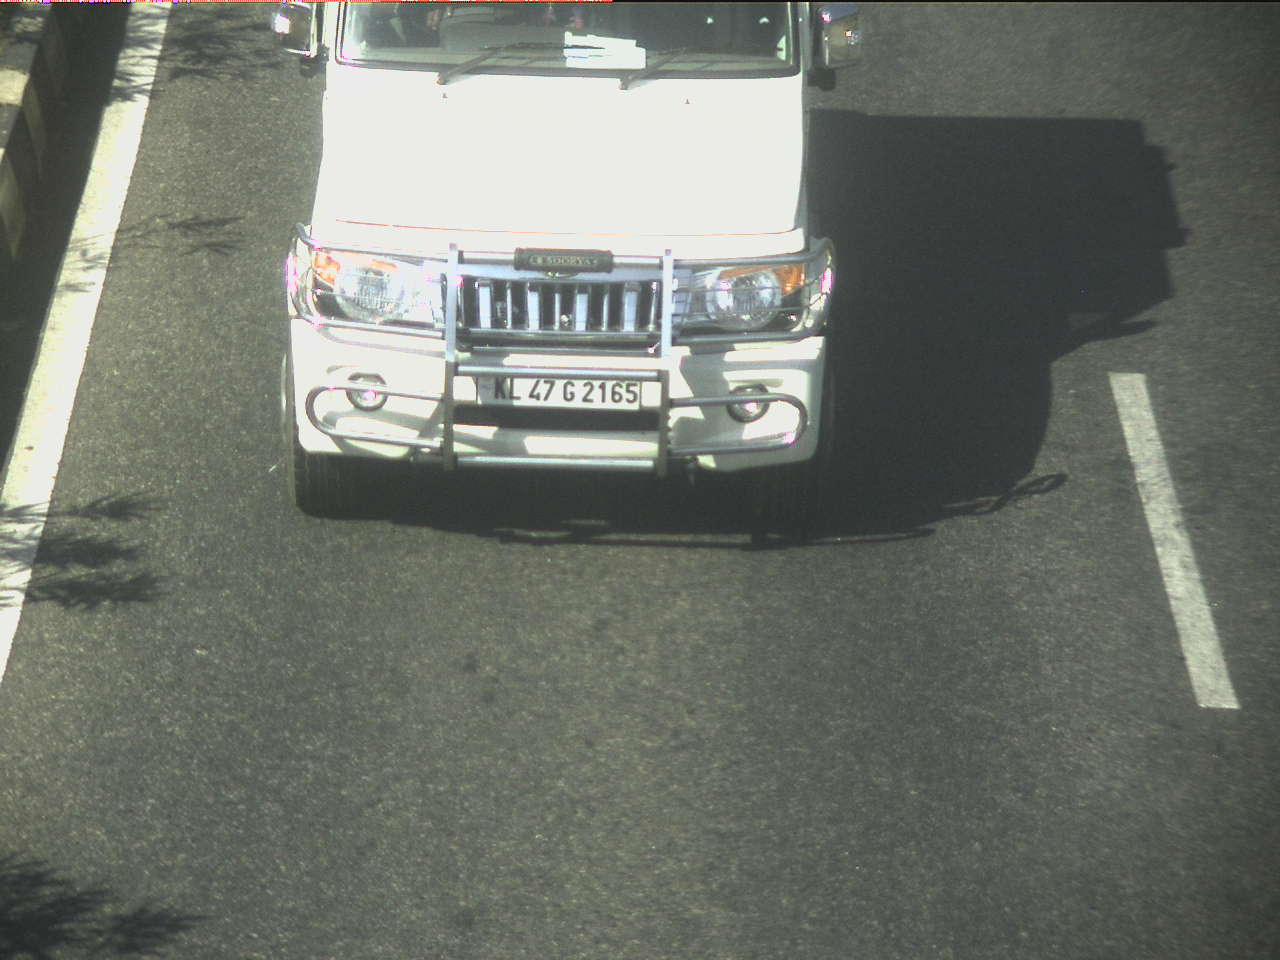car: (270, 1, 867, 526)
numberplate: (473, 363, 650, 423)
